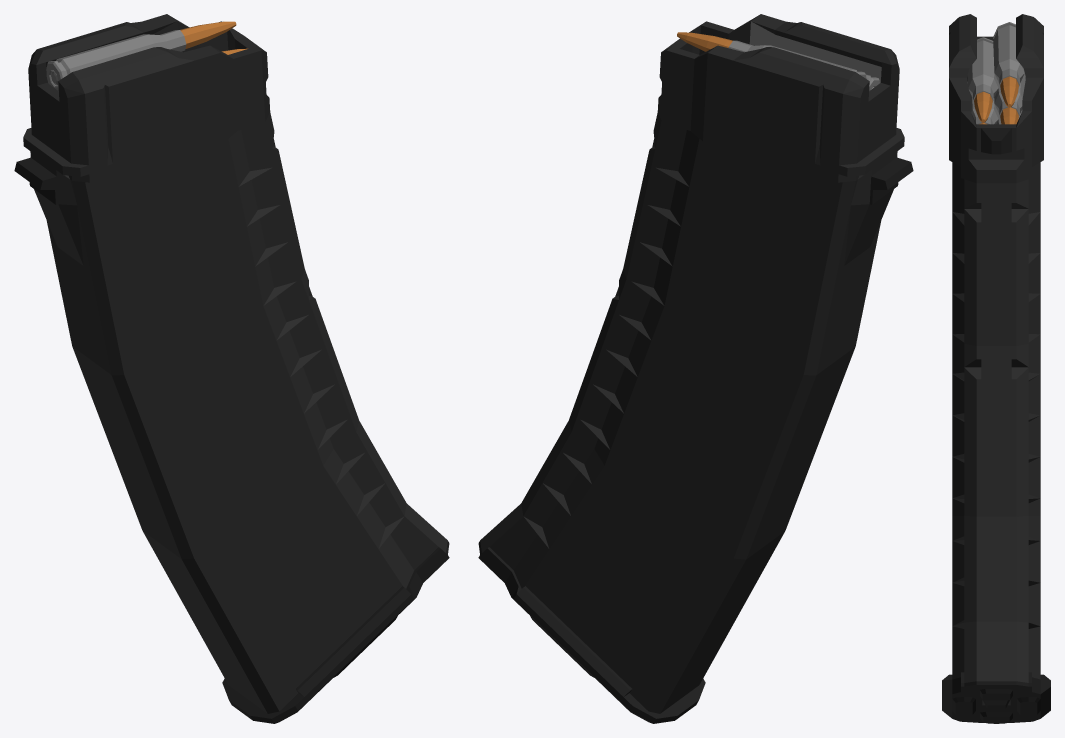
Rendered from ak-74m_magazine.glb.
The picture shows the model from 3 angles, left to right: view 1: azimuth 30°, elevation 25°; view 2: azimuth 150°, elevation 25°; view 3: azimuth 270°, elevation 25°; orthographic projection. The views are drawn at different scales.
Parts seen in each view (by area): view 1: ak74 30rnd mag (polymer)_7 (×4); view 2: ak74 30rnd mag (polymer)_7 (×3); view 3: ak74 30rnd mag (polymer)_7 (×4).
Boxes of the visible parts, x1,y1,x2,y2 form: ak74 30rnd mag (polymer)_7 (×4): (14,14,449,723); ak74 30rnd mag (polymer)_7 (×3): (478,14,913,723); ak74 30rnd mag (polymer)_7 (×4): (942,14,1050,723).
Size of the model in its own units: 1.29 by 2.11 by 0.3312.
